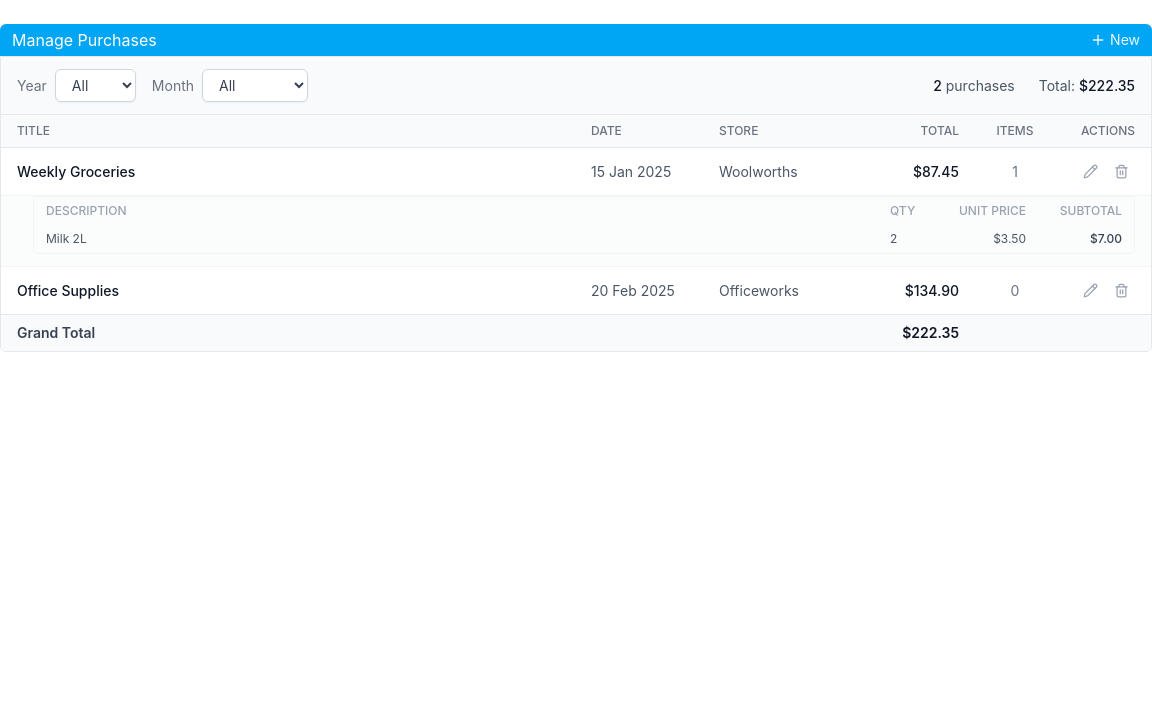
EditTable › opens the edit form modal when edit is clicked
Expected: the text "Weekly Groceries" is shown, [17,162,135,180]
Step 1. Click the button named "edit weekly groceries" → (1090, 172), box [1077,158,1104,185]
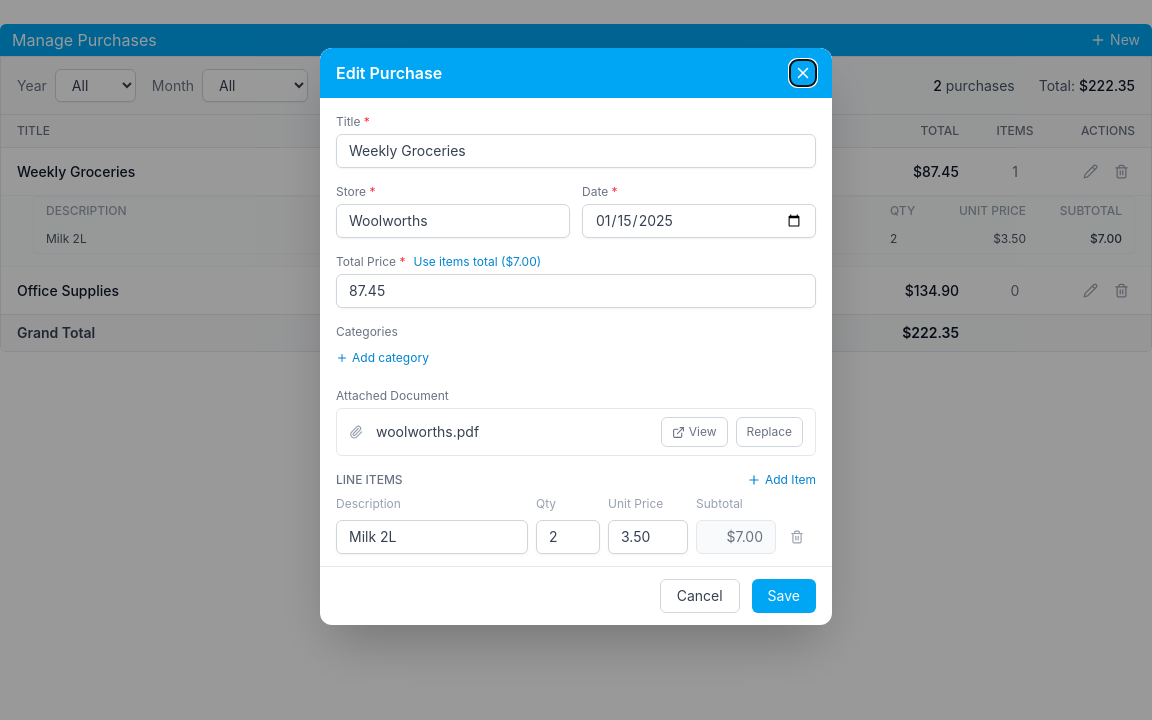
Now the heading "Edit Purchase" is shown, box [336,61,442,85]
